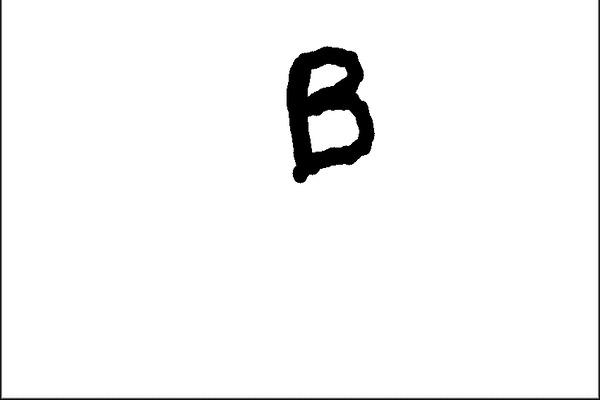B: (279, 39, 379, 189)
